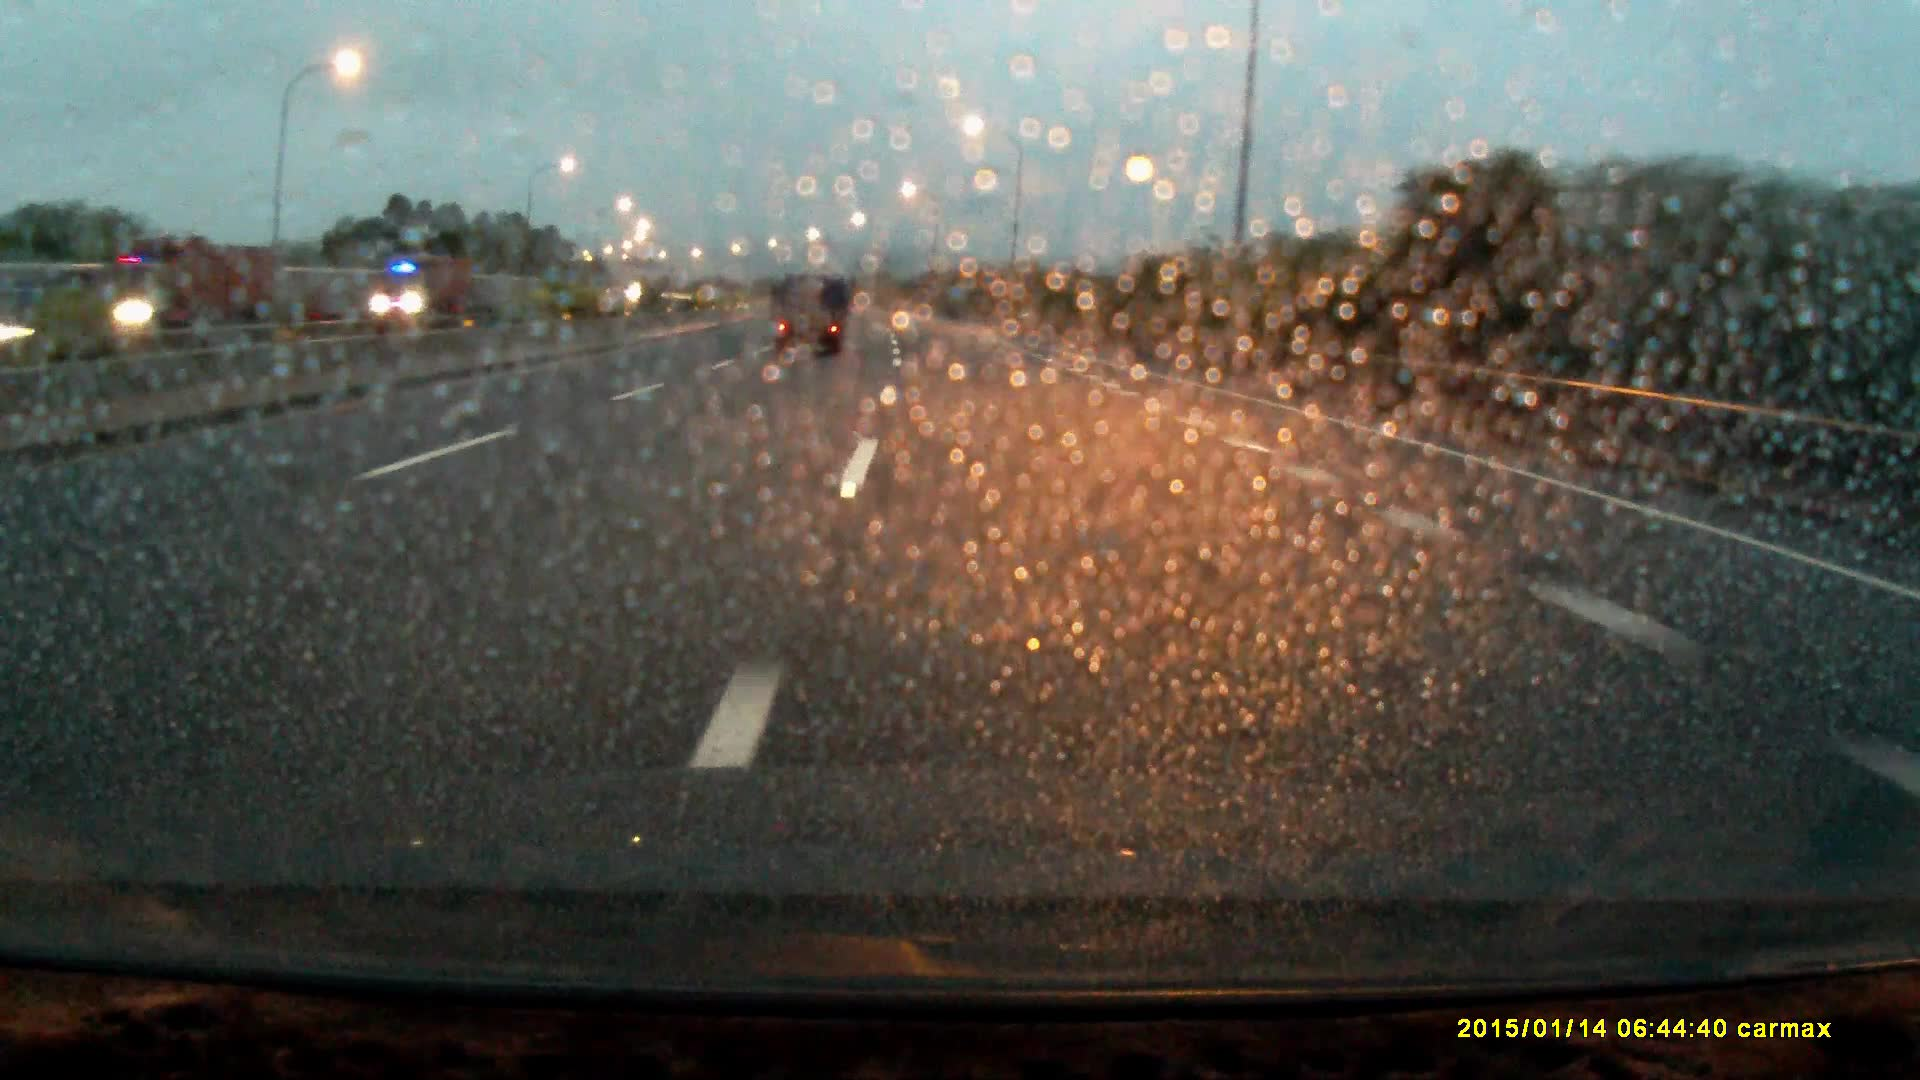vehicle: (73, 237, 265, 334), (770, 273, 851, 361), (367, 253, 473, 319)
